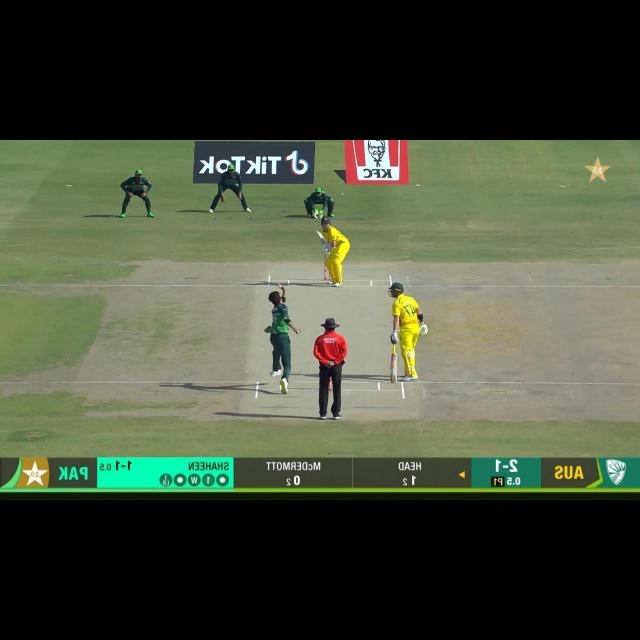bat: (388, 353, 400, 384), (314, 229, 328, 248)
toe: (314, 228, 324, 238), (387, 376, 399, 382)
